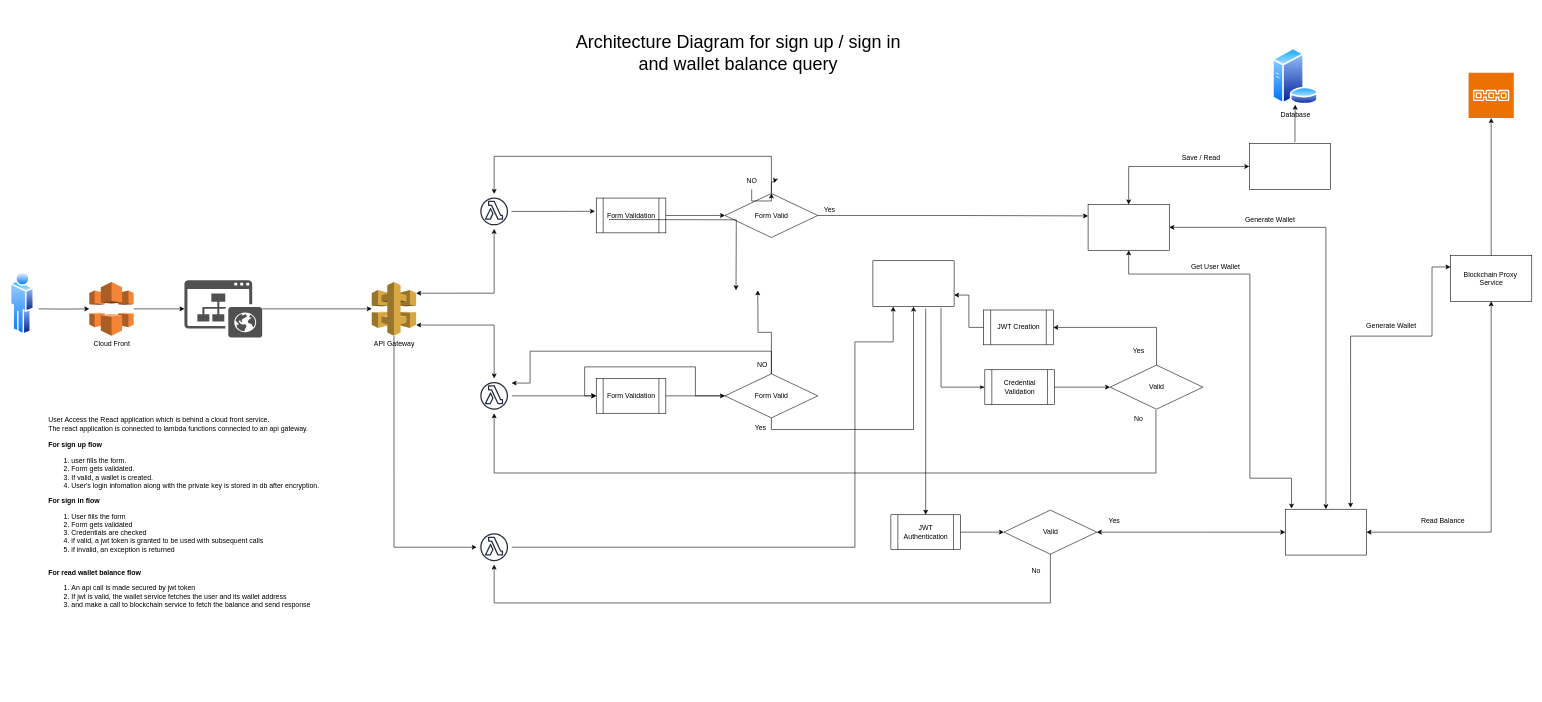
Image size: 1542x702. Some labels were removed from this diagram. Here are the shapes that lost their labels. From the top down, the centre of each, then its label:
At [1290,166]: "Data Access Service".
At [494,211]: "Signup Lambda Function".
At [1128,227]: "User Service".
At [913,283]: "Auth Service".
At [494,395]: "Sign in Lambda Function".
At [494,547]: "Read Balance Lambda Function".
At [1325,532]: "Wallet Service".
